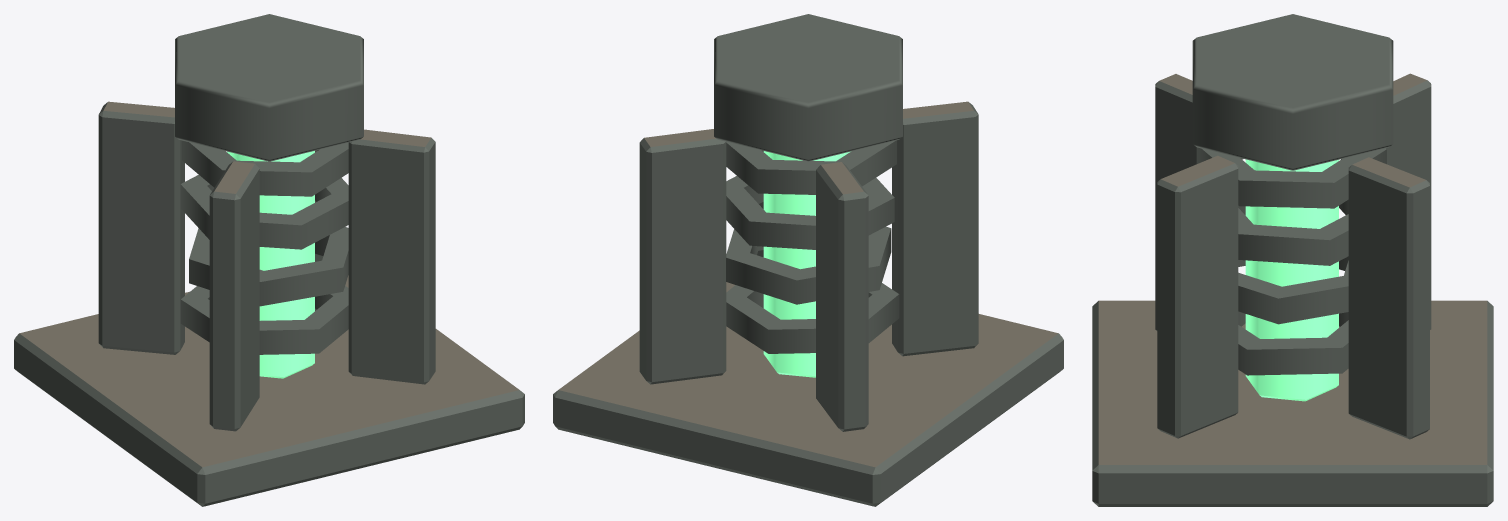
The model's file is R4X_EnergyRegenerator_LOD1.fbx.
3 views of the same model, side by side, from view 1: azimuth 30°, elevation 25°; view 2: azimuth 150°, elevation 25°; view 3: azimuth 270°, elevation 25° (orthographic). The views are drawn at different scales.
Parts seen in each view (by area): view 1: R4X_EnergyRegenerator_LOD1; view 2: R4X_EnergyRegenerator_LOD1; view 3: R4X_EnergyRegenerator_LOD1.
Boxes of the visible parts, x1=… form: R4X_EnergyRegenerator_LOD1: x1=14, y1=14, x2=524, y2=506; R4X_EnergyRegenerator_LOD1: x1=553, y1=14, x2=1063, y2=506; R4X_EnergyRegenerator_LOD1: x1=1092, y1=14, x2=1493, y2=506.
Size of the model in its own units: 0.52 by 0.52 by 0.52.
